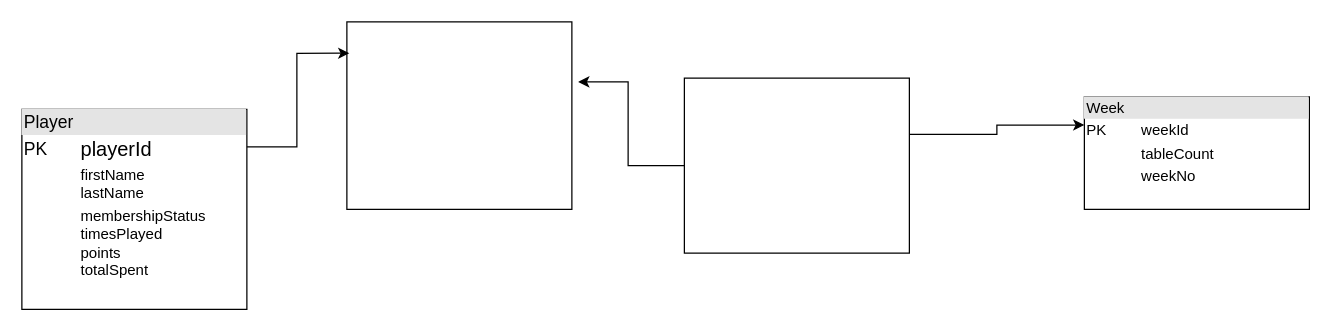
This 1331x331 diagram has some shape labels left out. Each missing label, with the centre of its shape:
PlayerTable PK playerId PK tableId placement seat totalBuyIn: the point at 459,115
Table PK tableId FK weekId seatCount pot buyIn tableNumber: the point at 796,165
